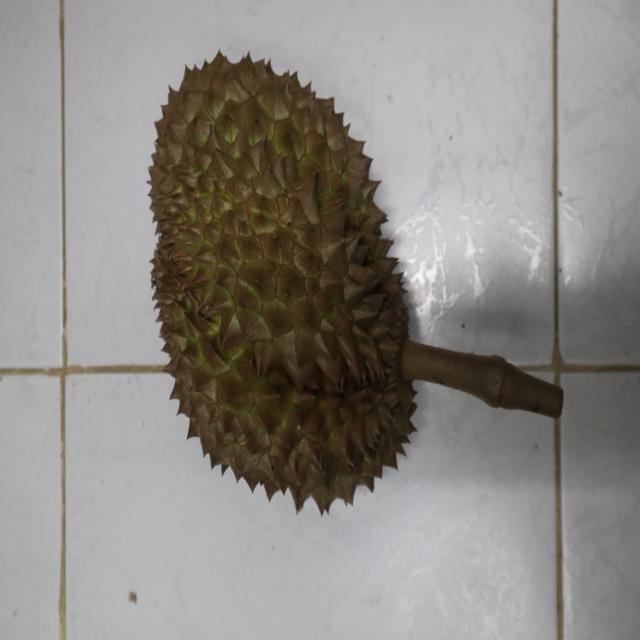mature: (143, 46, 419, 514)
